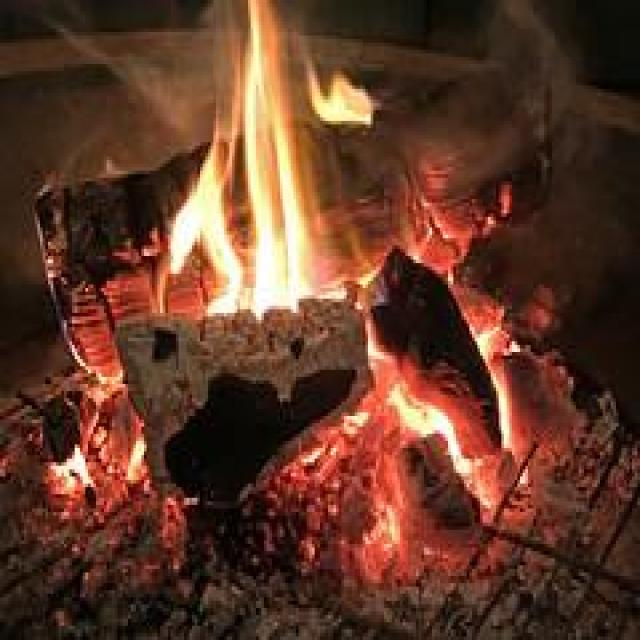fire: (130, 4, 514, 484)
